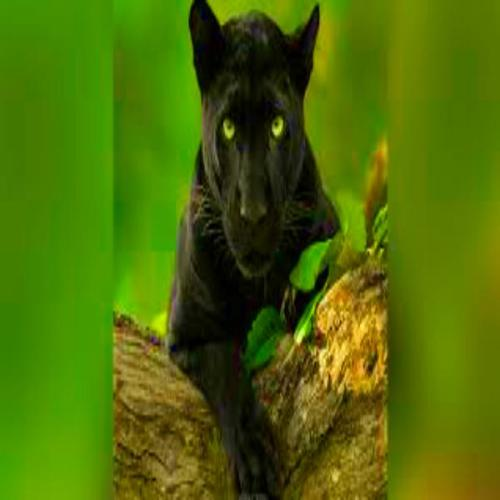panther-endangered: (166, 0, 345, 500)
